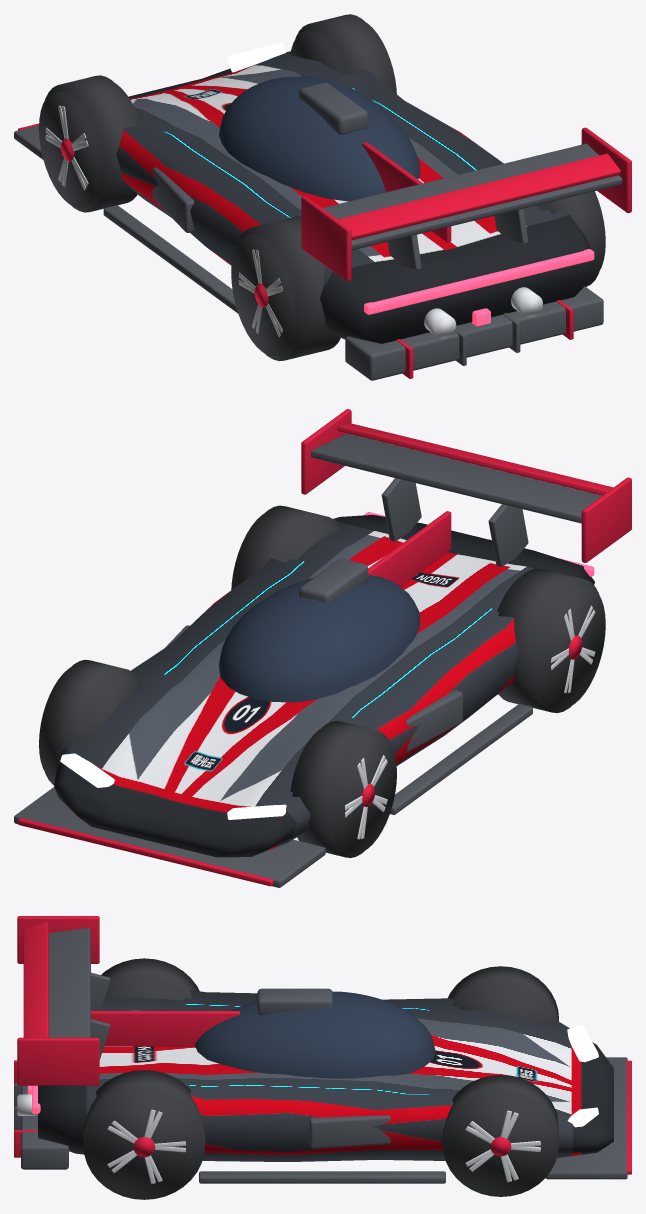
File: race_car.glb
The picture shows the model from 3 angles, top to bottom: view 1: azimuth 30°, elevation 25°; view 2: azimuth 150°, elevation 25°; view 3: azimuth 270°, elevation 25°; orthographic projection. The views are drawn at different scales.
Parts seen in each view (by area): view 1: Car_Body_Shell, Car_Canopy, Wheel_RL, Wheel_FL, Car_Rear_Diffuser, Car_Rear_Wing_Main, Car_Rear_Wing_Flap, Wheel_FR, Car_Wing_Endplate_L, Car_Taillight_Bar, Car_Side_Skirt_L, Wheel_RR (+10 smaller); view 2: Car_Body_Shell, Car_Canopy, Wheel_RL, Wheel_FL, Car_Rear_Wing_Main, Wheel_FR, Car_Front_Splitter, Wheel_RR, Car_Rear_Wing_Flap, Car_Shark_Fin, Car_Side_Skirt_L, Car_Wing_Endplate_L (+8 smaller); view 3: Car_Body_Shell, Car_Canopy, Wheel_RR, Wheel_FR, Car_Rear_Wing_Main, Wheel_FL, Car_Wing_Endplate_R, Car_Shark_Fin, Car_Front_Splitter, Car_Side_Skirt_R, Wheel_RL, Car_Rear_Wing_Flap (+9 smaller).
Part boxes in pixels (box(x1,y1,x2,y2)): Car_Body_Shell: box(116, 51, 594, 343); Car_Canopy: box(219, 76, 419, 201); Wheel_RL: box(231, 216, 340, 361); Wheel_FL: box(39, 75, 140, 212); Car_Rear_Diffuser: box(345, 286, 603, 380); Car_Rear_Wing_Main: box(322, 143, 622, 250); Car_Rear_Wing_Flap: box(338, 153, 620, 240); Wheel_FR: box(290, 14, 396, 93); Car_Wing_Endplate_L: box(301, 196, 351, 281); Car_Taillight_Bar: box(364, 249, 594, 314); Car_Side_Skirt_L: box(103, 205, 237, 313); Wheel_RR: box(536, 191, 605, 286); Car_Body_Shell: box(54, 515, 594, 857); Car_Canopy: box(218, 575, 420, 702); Wheel_RL: box(497, 568, 605, 712); Wheel_FL: box(290, 721, 396, 857); Car_Rear_Wing_Main: box(311, 433, 601, 523); Wheel_FR: box(39, 659, 140, 784); Car_Front_Splitter: box(14, 787, 325, 887); Wheel_RR: box(231, 505, 339, 589); Car_Rear_Wing_Flap: box(337, 423, 613, 495); Car_Shark_Fin: box(368, 511, 451, 586); Car_Side_Skirt_L: box(390, 704, 532, 814); Car_Wing_Endplate_L: box(581, 477, 631, 562); Car_Body_Shell: box(38, 990, 613, 1161); Car_Canopy: box(194, 991, 435, 1078); Wheel_RR: box(83, 1070, 205, 1199); Wheel_FR: box(442, 1075, 558, 1196); Car_Rear_Wing_Main: box(49, 928, 90, 1037); Wheel_FL: box(448, 966, 558, 1026); Car_Wing_Endplate_R: box(17, 1037, 99, 1085); Car_Shark_Fin: box(91, 1011, 240, 1046); Car_Front_Splitter: box(546, 1057, 627, 1179); Car_Side_Skirt_R: box(199, 1171, 445, 1183); Wheel_RL: box(101, 958, 199, 1000); Car_Rear_Wing_Flap: box(23, 922, 48, 1037).
Size of the model in its own units: 0.9494 by 0.505 by 1.8.
Materials: 9 (1 with a texture image).
